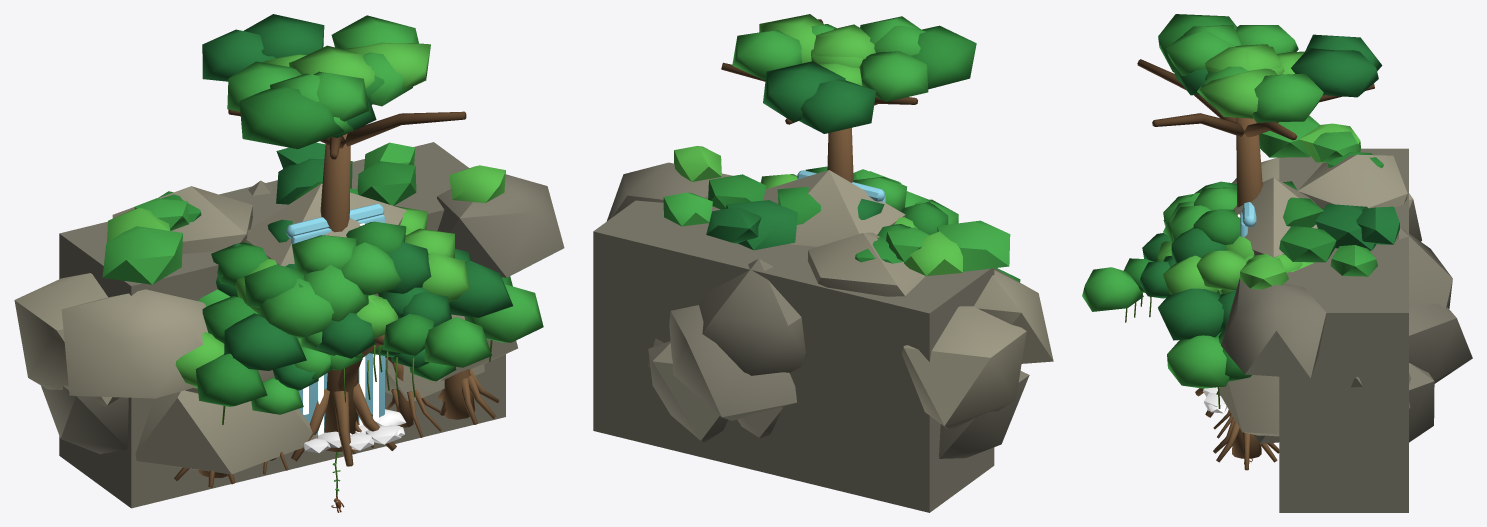
Rendered from amazon.glb.
The picture shows the model from 3 angles, left to right: view 1: azimuth 30°, elevation 25°; view 2: azimuth 150°, elevation 25°; view 3: azimuth 270°, elevation 25°; orthographic projection. The views are drawn at different scales.
Parts seen in each view (by area): view 1: waterfall_cliff, canopy_arch, kapok_tree, overhang_tree, trail_arch; view 2: waterfall_cliff, kapok_tree, canopy_arch; view 3: waterfall_cliff, kapok_tree, canopy_arch, overhang_tree.
Part boxes in pixels (bbox=[...]): waterfall_cliff: bbox=[14, 142, 564, 508]; canopy_arch: bbox=[174, 206, 543, 487]; kapok_tree: bbox=[202, 14, 466, 466]; overhang_tree: bbox=[301, 287, 491, 454]; trail_arch: bbox=[251, 345, 456, 474]; waterfall_cliff: bbox=[593, 146, 1053, 512]; kapok_tree: bbox=[721, 14, 976, 182]; canopy_arch: bbox=[760, 166, 1020, 282]; waterfall_cliff: bbox=[1203, 115, 1472, 512]; kapok_tree: bbox=[1137, 14, 1382, 417]; canopy_arch: bbox=[1158, 181, 1313, 470]; overhang_tree: bbox=[1082, 233, 1175, 322].
Size of the model in its own units: 38.64 by 35.52 by 30.12.
